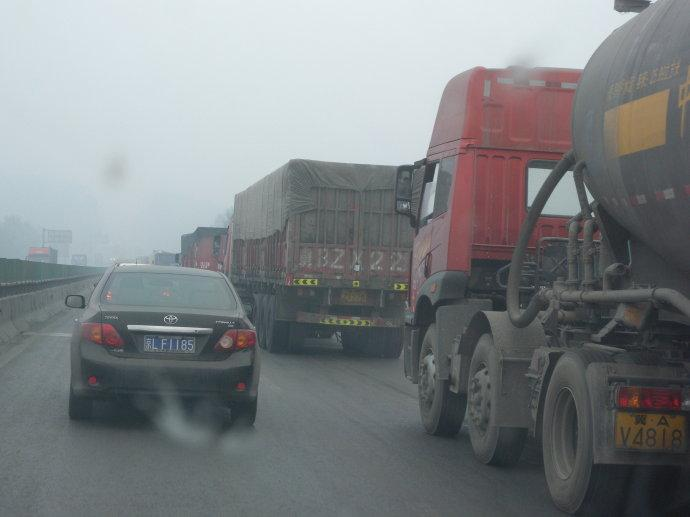bus: (219, 157, 418, 357), (173, 225, 258, 305), (23, 246, 58, 272), (69, 252, 88, 271)
car: (63, 260, 261, 426)
